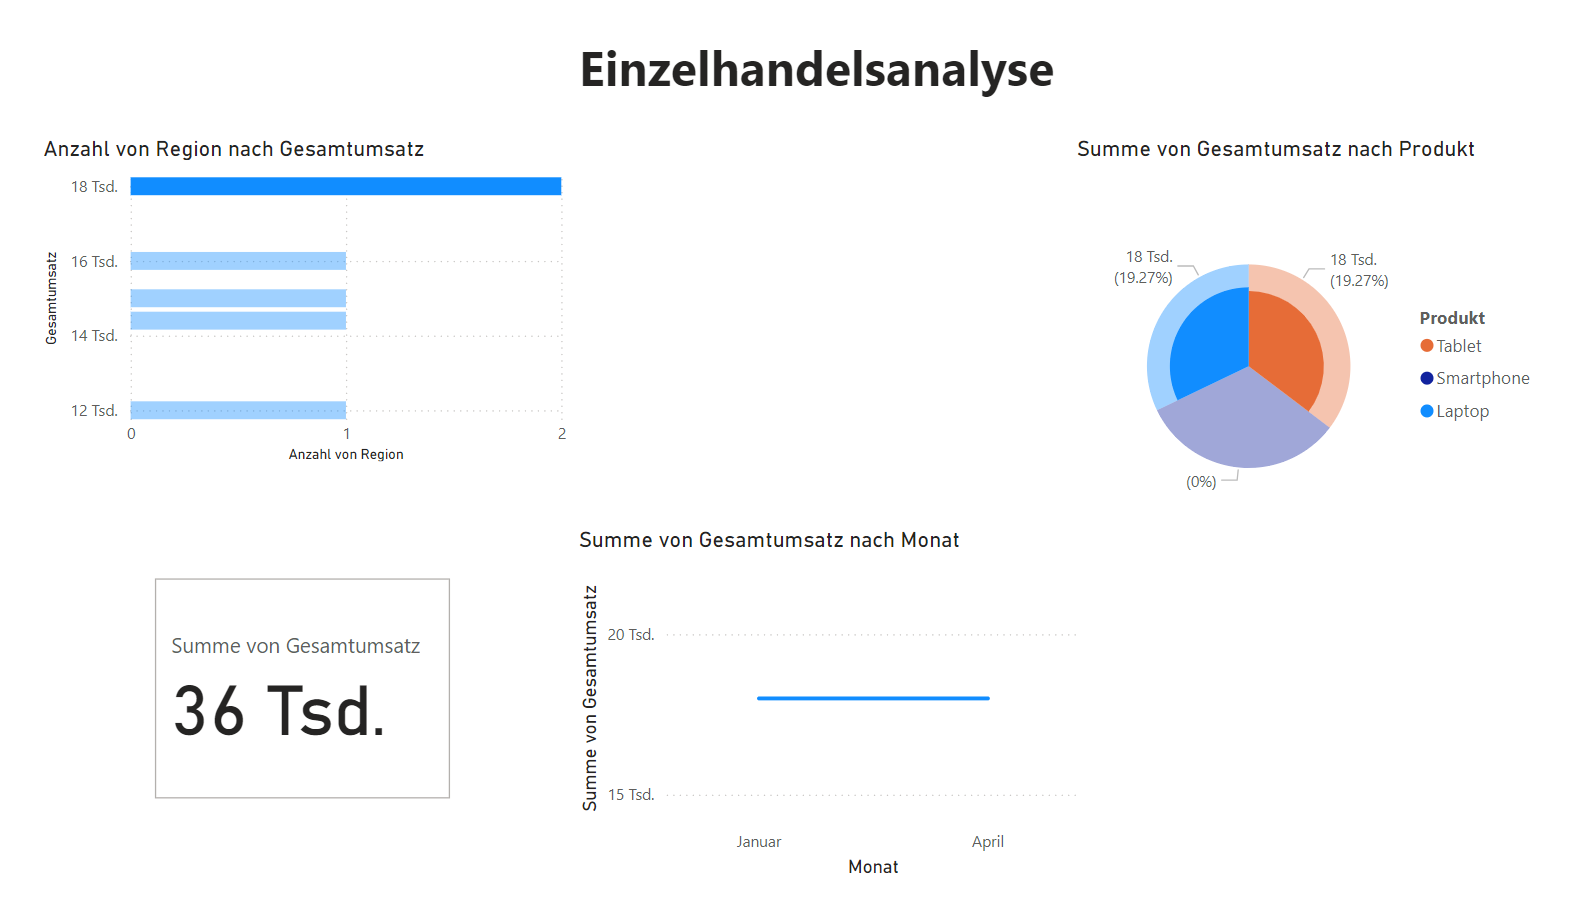

The dashboard page shown, as its layout file describes it:
{"tool":"powerbi","page":{"name":"Seite 1","canvas":[1280,720],"ordinal":0},"visuals":[{"type":"cardVisual","fields":{"Data":["Sum(SalesData.Total Revenue)"]},"box":[153,455.4,238.7,180.8],"z":0},{"type":"clusteredBarChart","fields":{"Y":["CountNonNull(SalesData.Region)"],"Category":["SalesData.Total Revenue"]},"box":[67.2,118.2,413.7,257.2],"z":1000},{"type":"lineChart","fields":{"Category":["SalesData.Datum.Variation.Datumshierarchie.Monat"],"Y":["Sum(SalesData.Gesamtumsatz)"]},"box":[480.9,420.6,396.3,274.6],"z":2000},{"type":"pieChart","fields":{"Category":["SalesData.Product"],"Y":["Sum(SalesData.Gesamtumsatz)"]},"box":[865.6,118.2,369.6,337.2],"z":3000},{"type":"textbox","box":[480.9,34.8,396.3,68.4],"z":4000}]}

Visuals, with their boxes in screenshot pixels (x1, y1, x2, y2), scaled from the page's 1280x720 canvas onto the 1594x910 screenshot:
cardVisual - Sum(SalesData.Total Revenue): bbox=(191, 576, 488, 804)
clusteredBarChart - CountNonNull(SalesData.Region) x SalesData.Total Revenue: bbox=(84, 149, 599, 474)
lineChart - SalesData.Datum.Variation.Datumshierarchie.Monat x Sum(SalesData.Gesamtumsatz): bbox=(599, 532, 1092, 879)
pieChart - SalesData.Product x Sum(SalesData.Gesamtumsatz): bbox=(1078, 149, 1538, 576)
textbox: bbox=(599, 44, 1092, 130)
